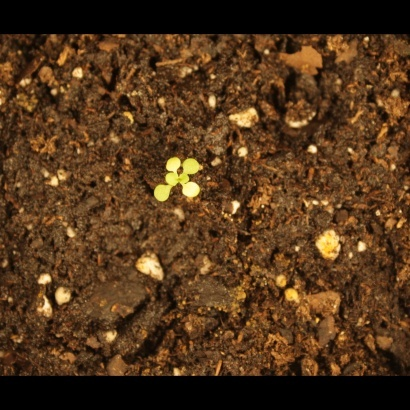leaf: (182, 156, 205, 179), (180, 179, 203, 202), (153, 184, 176, 207), (163, 154, 186, 177), (161, 168, 184, 191)
